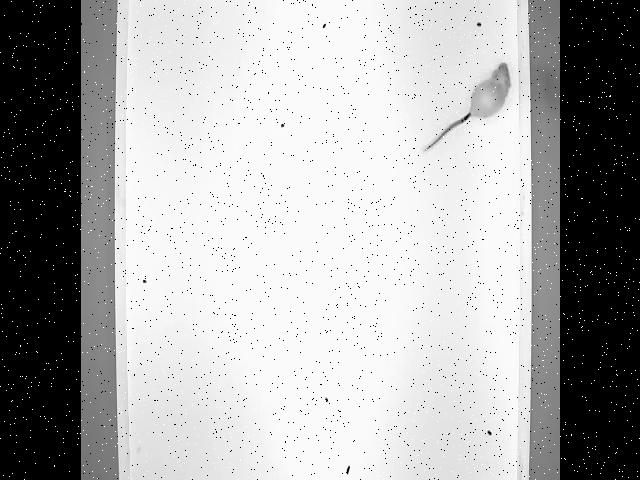Tikus: (416, 51, 514, 166)
